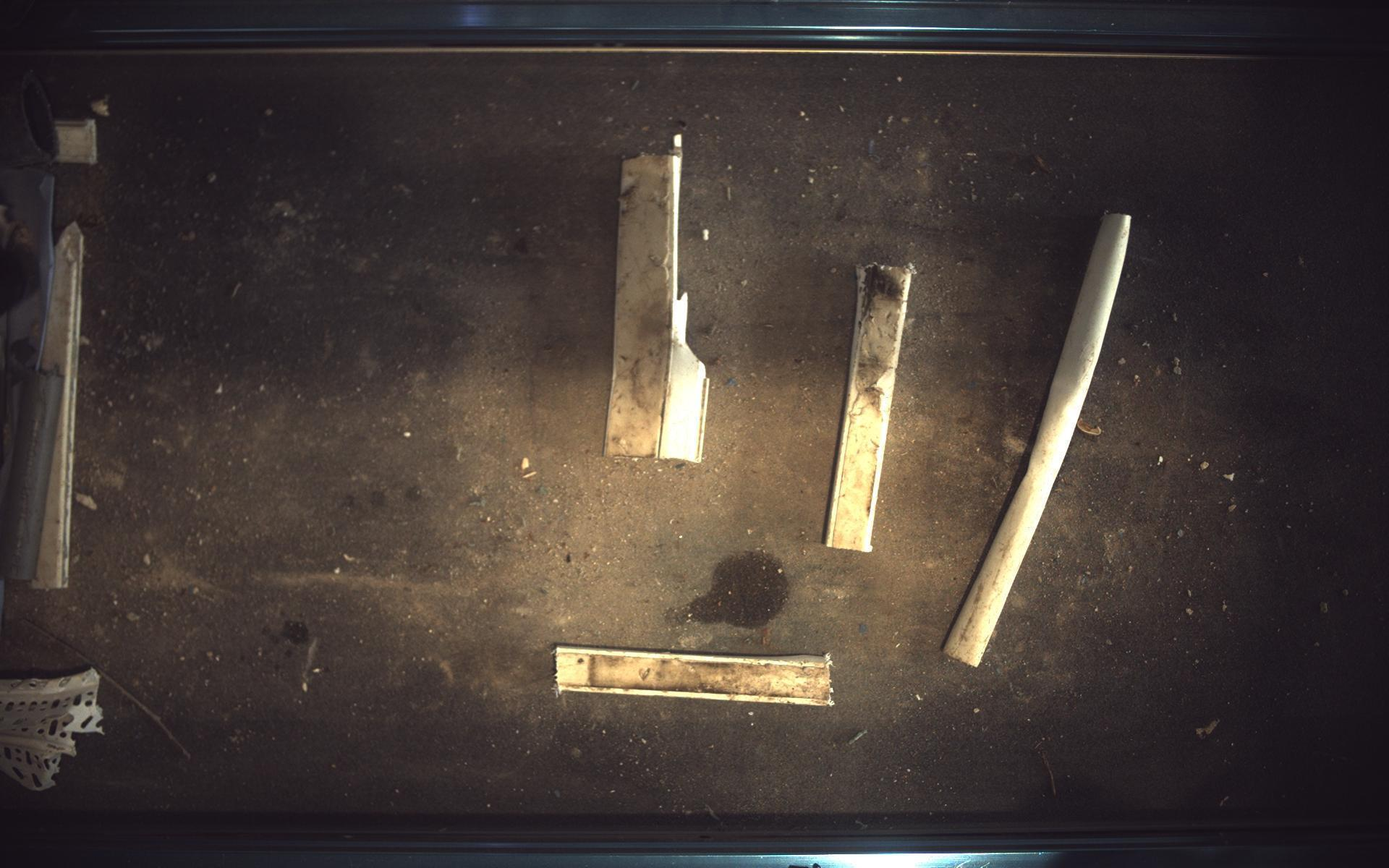pipes: (946, 213, 1134, 668), (1, 371, 62, 581), (1, 68, 56, 167)
plastic: (605, 135, 710, 463), (826, 264, 915, 553), (30, 221, 82, 590), (556, 646, 835, 707), (1, 668, 102, 792), (54, 119, 96, 163)
